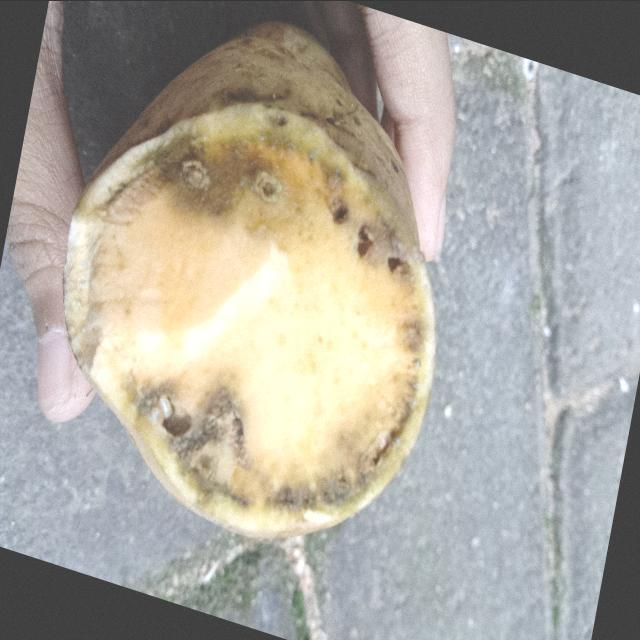Sick Sweet Potato_Tuber Rot: (64, 102, 435, 537)
